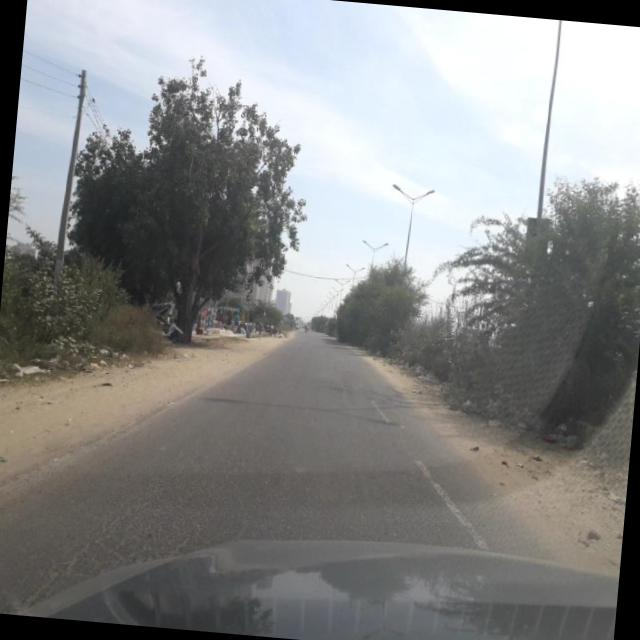crack: (32, 398, 276, 598)
